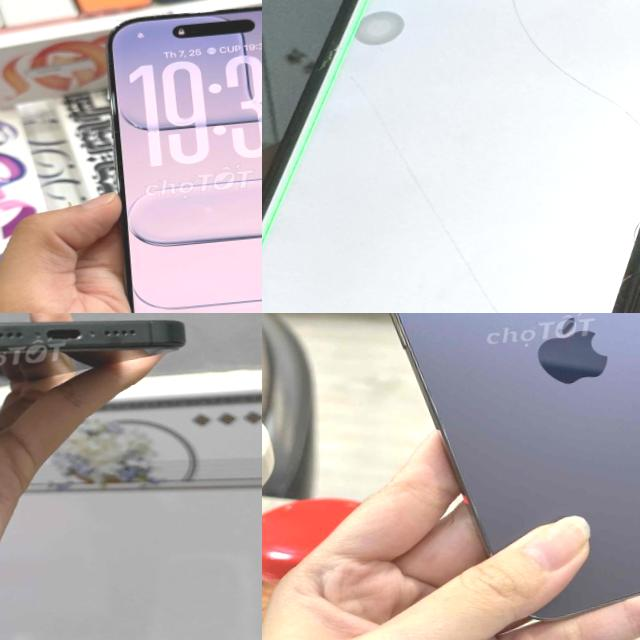screen_defect: (262, 0, 403, 312), (432, 215, 504, 304), (566, 66, 640, 143), (483, 0, 556, 77), (370, 128, 442, 199)
